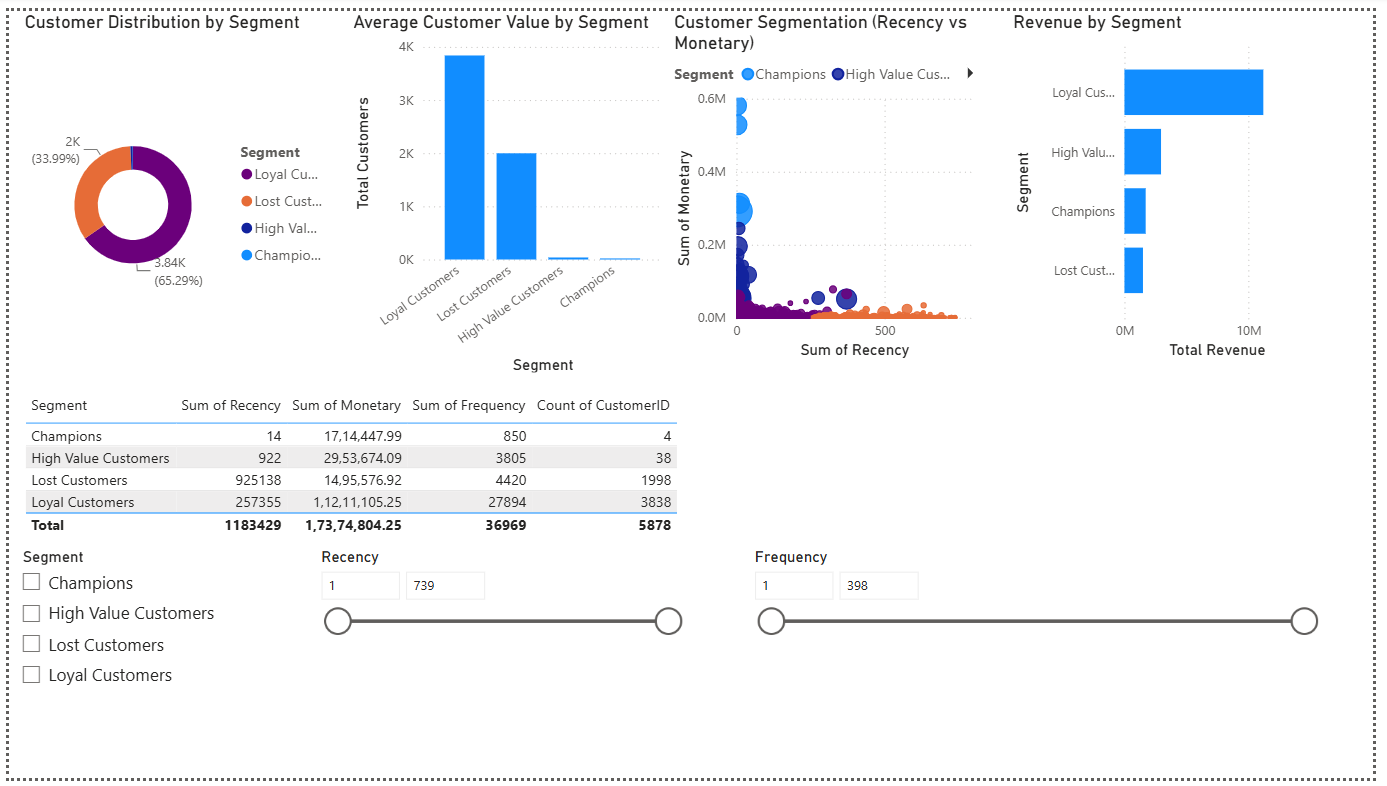

This screenshot's page, from the dashboard's own definition file:
{"tool":"powerbi","page":{"name":"Customer Segmentation","canvas":[1280,720],"ordinal":1},"visuals":[{"type":"donutChart","title":"Customer Distribution by Segment","fields":{"Category":["vw_customer_segments.Segment"],"Y":["Count(vw_customer_segments.CustomerID)"]},"box":[9.4,0,300.5,343.9],"z":0},{"type":"clusteredBarChart","title":"Revenue by Segment","fields":{"Category":["vw_customer_segments.Segment"],"Y":["vw_customer_segments.Total Revenue"]},"box":[937.3,0,300.5,330.7],"z":1},{"type":"clusteredColumnChart","title":"Average Customer Value by Segment","fields":{"Category":["vw_customer_segments.Segment"],"Y":["vw_customer_segments.Total Customers"]},"box":[319,0,300,344],"z":2},{"type":"scatterChart","title":"Customer Segmentation (Recency vs Monetary)","fields":{"X":["Sum(vw_customer_segments.Recency)"],"Y":["Sum(vw_customer_segments.Monetary)"],"Size":["Sum(vw_customer_segments.Frequency)"],"Series":["vw_customer_segments.Segment"],"Category":["vw_customer_segments.CustomerID"]},"box":[619.8,0,300.5,330.7],"z":3},{"type":"tableEx","fields":{"Values":["vw_customer_segments.Segment","Sum(vw_customer_segments.Recency)","Sum(vw_customer_segments.Monetary)","Sum(vw_customer_segments.Frequency)","CountNonNull(vw_customer_segments.CustomerID)"]},"box":[9.4,353.4,631.2,145.5],"z":4},{"type":"slicer","fields":{"Values":["vw_customer_segments.Segment"]},"box":[0,498.9,279.7,221.1],"z":5},{"type":"slicer","fields":{"Values":["vw_customer_segments.Recency"]},"box":[280,499,360,221],"z":6},{"type":"slicer","fields":{"Values":["vw_customer_segments.Frequency"]},"box":[687.9,498.9,549.9,151.2],"z":7}]}

Visuals, with their boxes in screenshot pixels (x1, y1, x2, y2), scaled from the page's 1280x720 canvas onto the 1387x786 screenshot:
"Customer Distribution by Segment" donutChart: Rect(10, 0, 336, 375)
"Revenue by Segment" clusteredBarChart: Rect(1016, 0, 1341, 361)
"Average Customer Value by Segment" clusteredColumnChart: Rect(346, 0, 671, 376)
"Customer Segmentation (Recency vs Monetary)" scatterChart: Rect(672, 0, 997, 361)
tableEx - vw_customer_segments.Segment x Sum(vw_customer_segments.Recency): Rect(10, 386, 694, 545)
slicer - vw_customer_segments.Segment: Rect(0, 545, 303, 785)
slicer - vw_customer_segments.Recency: Rect(303, 545, 694, 785)
slicer - vw_customer_segments.Frequency: Rect(745, 545, 1341, 710)
